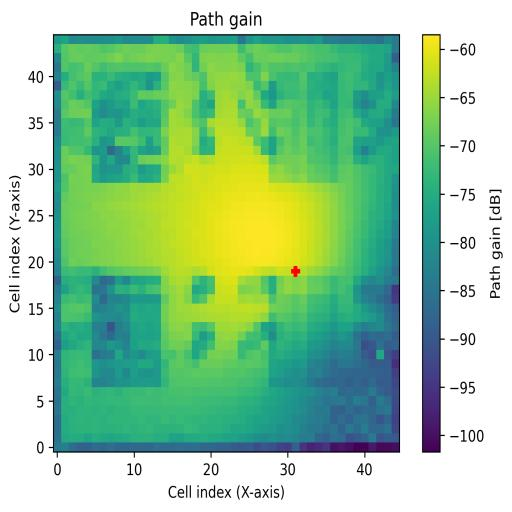Concrete: (268, 62, 340, 184)
Glass: (91, 63, 168, 184)
Metal: (268, 279, 340, 385)
Wood: (90, 277, 162, 387)
